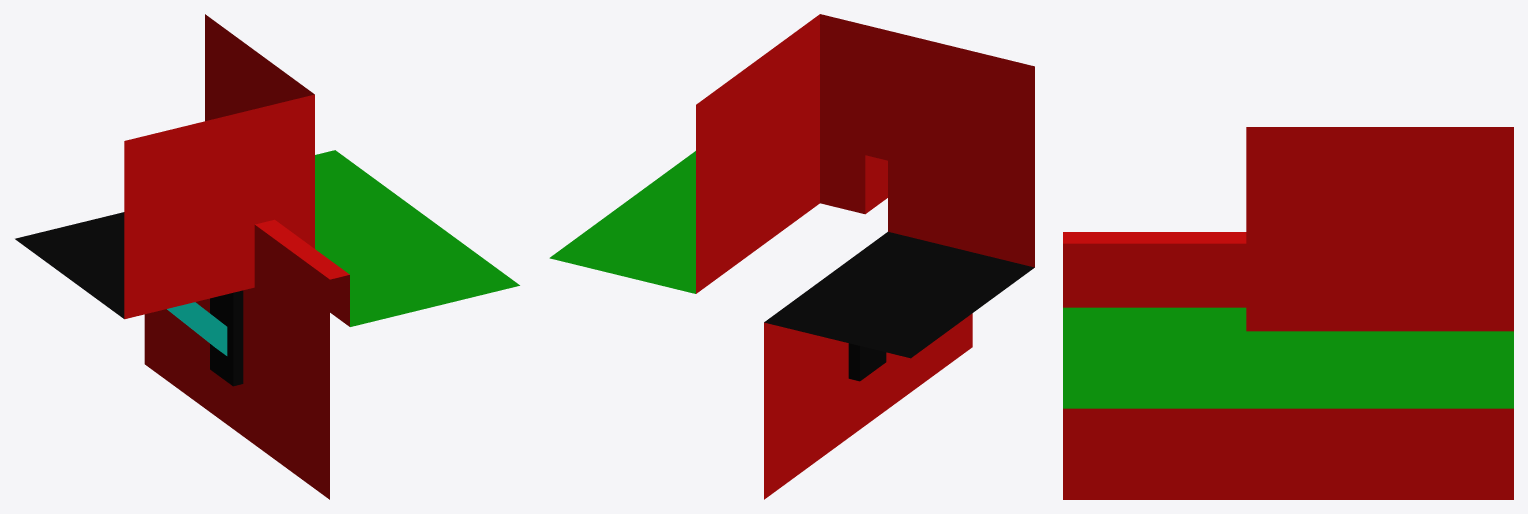
The picture shows the model from 3 angles, left to right: view 1: azimuth 30°, elevation 25°; view 2: azimuth 150°, elevation 25°; view 3: azimuth 270°, elevation 25°; orthographic projection. The views are drawn at different scales.
Visible parts, largest first — view 1: None_W_W_E_E_E_E_A_E_None; view 2: None_W_W_E_E_E_E_A_E_None; view 3: None_W_W_E_E_E_E_A_E_None.
Boxes of the visible parts, x1,y1,x2,y2 form: None_W_W_E_E_E_E_A_E_None: (15,14,519,499); None_W_W_E_E_E_E_A_E_None: (549,14,1034,499); None_W_W_E_E_E_E_A_E_None: (1063,127,1513,499).
Size of the model in its own units: 100 by 100 by 100.
